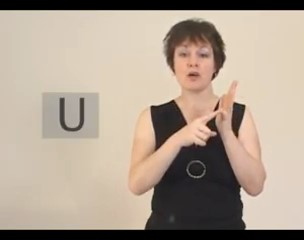U: (172, 76, 242, 149)
